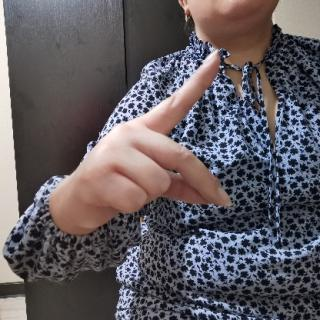TAA: (72, 42, 236, 242)
